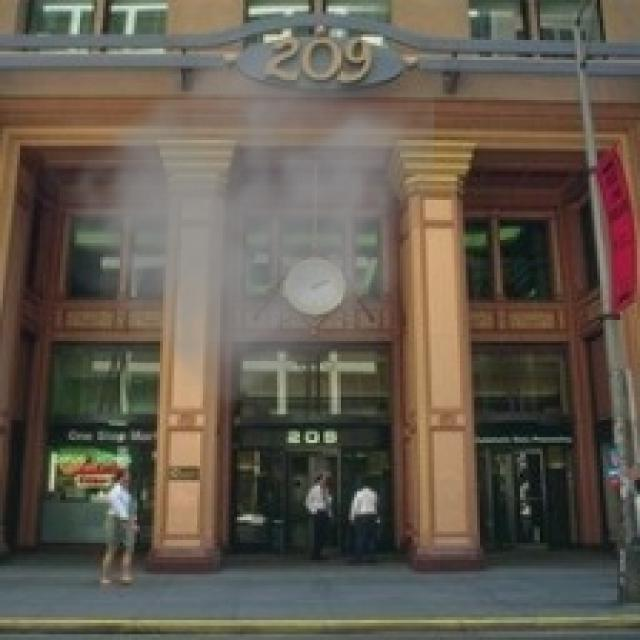Smoke: (22, 11, 434, 423)
